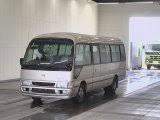bus: (17, 32, 126, 102)
